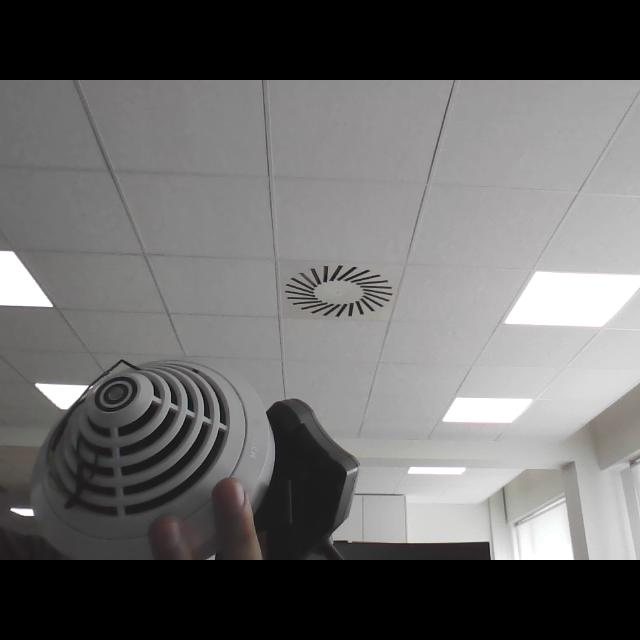Smoke-Detector: (32, 359, 274, 557)
